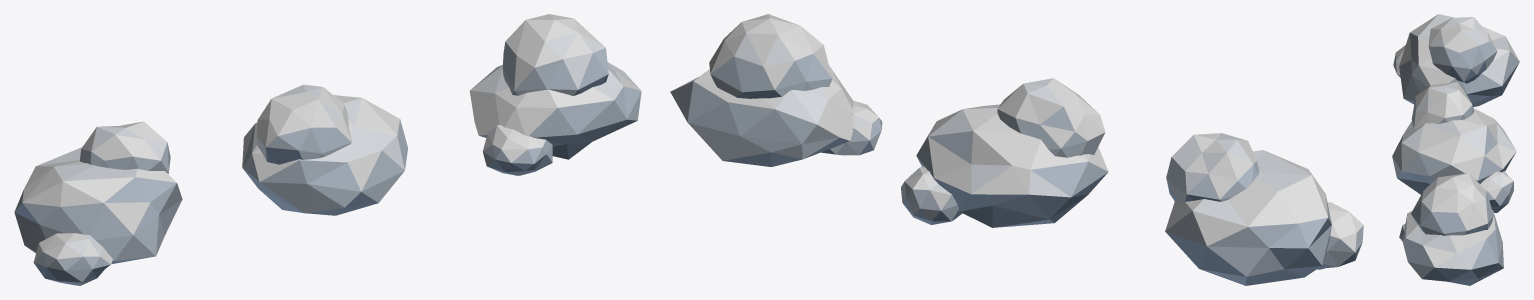
File: prop_snowchunk.glb
The picture shows the model from 3 angles, left to right: view 1: azimuth 30°, elevation 25°; view 2: azimuth 150°, elevation 25°; view 3: azimuth 270°, elevation 25°; orthographic projection. The views are drawn at different scales.
Visible parts, largest first — view 1: prop_snowchunk; view 2: prop_snowchunk; view 3: prop_snowchunk.
Boxes of the visible parts, box(x1,y1,x2,y2) form: prop_snowchunk: box(14, 14, 641, 285); prop_snowchunk: box(670, 14, 1363, 285); prop_snowchunk: box(1392, 14, 1519, 285).
Size of the model in its own units: 8.1 by 1.64 by 1.88.
